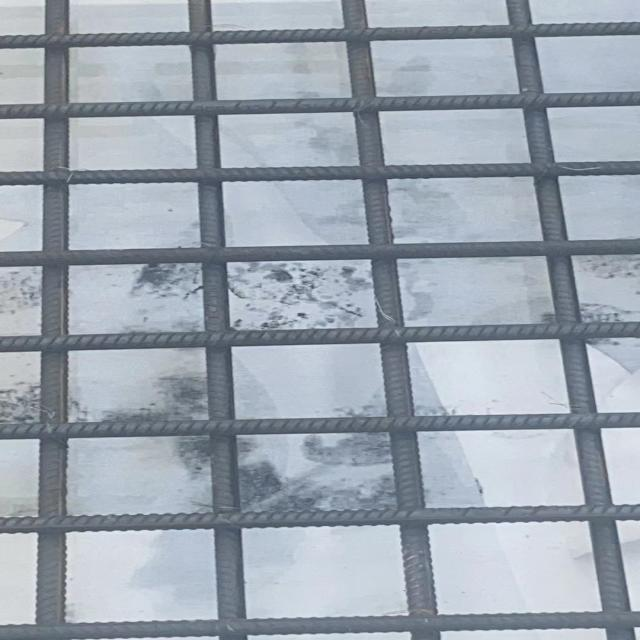ribbed bar: (504, 0, 635, 639), (339, 0, 442, 639), (186, 0, 248, 639), (35, 0, 70, 624), (0, 321, 639, 352), (0, 238, 639, 268), (0, 20, 639, 49), (0, 91, 639, 120), (0, 505, 639, 534), (0, 611, 639, 640), (0, 160, 639, 185), (0, 414, 639, 439)
